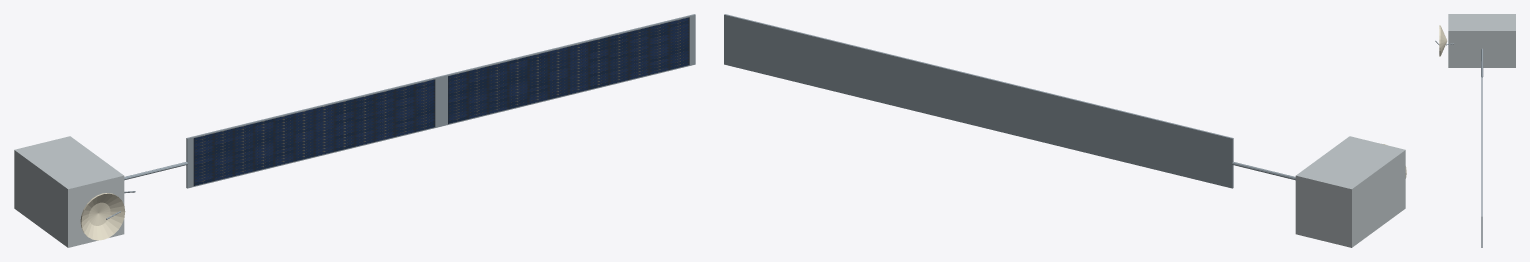
The model's file is ref-acadia-57693.glb.
3 views of the same model, side by side, from view 1: azimuth 30°, elevation 25°; view 2: azimuth 150°, elevation 25°; view 3: azimuth 270°, elevation 25° (orthographic). The views are drawn at different scales.
Parts seen in each view (by area): view 1: Photovoltaic laminates (×2), Spacecraft body, Array frame (×2), Reflector dish; view 2: Array frame (×2), Spacecraft body; view 3: Spacecraft body, Array frame (×2), Reflector dish, Solar array drive.
Boxes of the visible parts, x1,y1,x2,y2 form: Photovoltaic laminates (×2): [193, 17, 689, 185]; Spacecraft body: [14, 136, 124, 247]; Array frame (×2): [186, 14, 695, 188]; Reflector dish: [80, 193, 125, 240]; Array frame (×2): [724, 14, 1233, 188]; Spacecraft body: [1295, 136, 1405, 247]; Spacecraft body: [1448, 14, 1515, 67]; Array frame (×2): [1481, 61, 1482, 247]; Reflector dish: [1439, 25, 1447, 56]; Solar array drive: [1481, 48, 1483, 77].
Bounding box in the file's own units: 3.5 × 0.3 × 0.5976.
4 materials, 1 textured.
